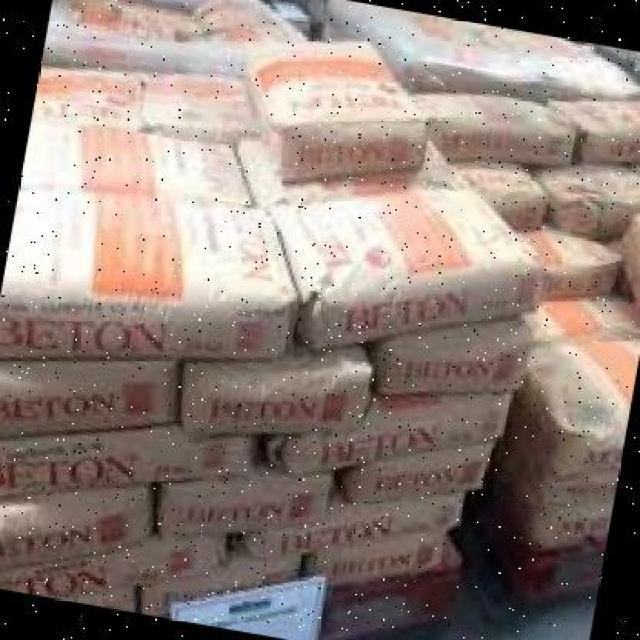gunny_bag: (0, 182, 291, 360), (279, 182, 539, 348), (248, 36, 427, 176), (271, 388, 505, 476), (18, 120, 255, 204), (518, 335, 640, 488), (230, 131, 466, 208), (493, 408, 616, 548), (184, 345, 374, 434), (231, 493, 464, 565), (0, 430, 261, 493), (0, 530, 226, 599), (0, 355, 180, 439), (0, 482, 155, 566), (414, 92, 580, 164), (373, 320, 535, 392), (135, 553, 303, 619), (159, 474, 339, 533), (343, 437, 492, 506), (300, 533, 461, 593), (514, 219, 622, 301), (138, 75, 262, 145), (527, 160, 640, 235), (30, 63, 149, 130), (453, 160, 548, 229), (524, 291, 640, 345), (545, 103, 640, 163), (620, 213, 640, 324)
